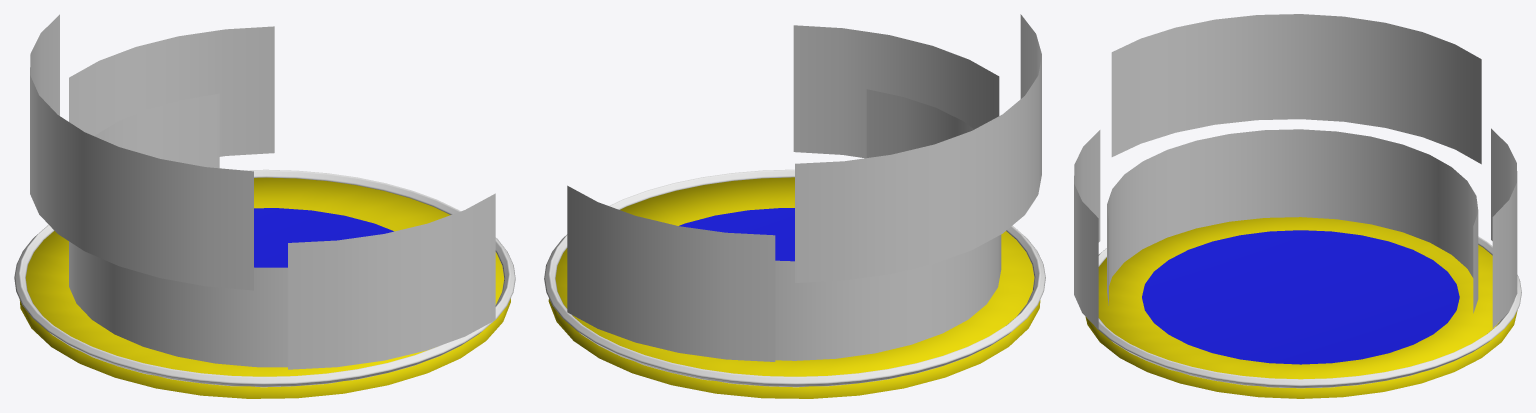
The model's file is CircleStage.fbx.
3 renders of one model, left to right at view 1: azimuth 30°, elevation 25°; view 2: azimuth 150°, elevation 25°; view 3: azimuth 270°, elevation 25°, orthographic. The views are drawn at different scales.
Visible parts, largest first — view 1: MiddleUpperScreen.001, RightScreen.001, mainStage.001, CenterScreen.001, LeftScreen.001, EdgeLight.001; view 2: MiddleUpperScreen.001, LeftScreen.001, mainStage.001, CenterScreen.001, RightScreen.001, EdgeLight.001; view 3: mainStage.001, MiddleUpperScreen.001, CenterScreen.001, EdgeLight.001, LeftScreen.001, RightScreen.001.
Part boxes in pixels (box(x1,y1,x2,y2)): MiddleUpperScreen.001: box(30, 14, 253, 290); RightScreen.001: box(288, 193, 495, 369); mainStage.001: box(19, 177, 510, 398); CenterScreen.001: box(69, 93, 287, 367); LeftScreen.001: box(69, 26, 274, 156); EdgeLight.001: box(14, 169, 515, 387); MiddleUpperScreen.001: box(795, 14, 1041, 282); LeftScreen.001: box(567, 185, 775, 361); mainStage.001: box(548, 177, 1040, 398); CenterScreen.001: box(775, 89, 1001, 360); RightScreen.001: box(793, 25, 999, 158); EdgeLight.001: box(544, 169, 1045, 387); mainStage.001: box(1085, 217, 1517, 398); MiddleUpperScreen.001: box(1111, 14, 1481, 164); CenterScreen.001: box(1107, 129, 1478, 313); EdgeLight.001: box(1096, 236, 1521, 388); LeftScreen.001: box(1491, 128, 1517, 328); RightScreen.001: box(1074, 130, 1100, 329).
Size of the model in its own units: 2513 by 1277 by 2545.
